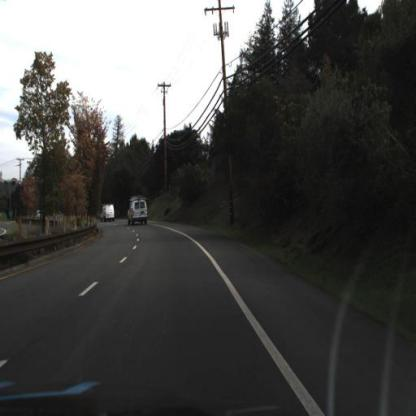car: (127, 196, 150, 228), (99, 203, 117, 224)
